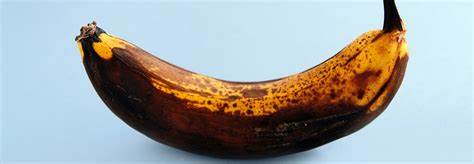banana: (46, 2, 451, 164)
